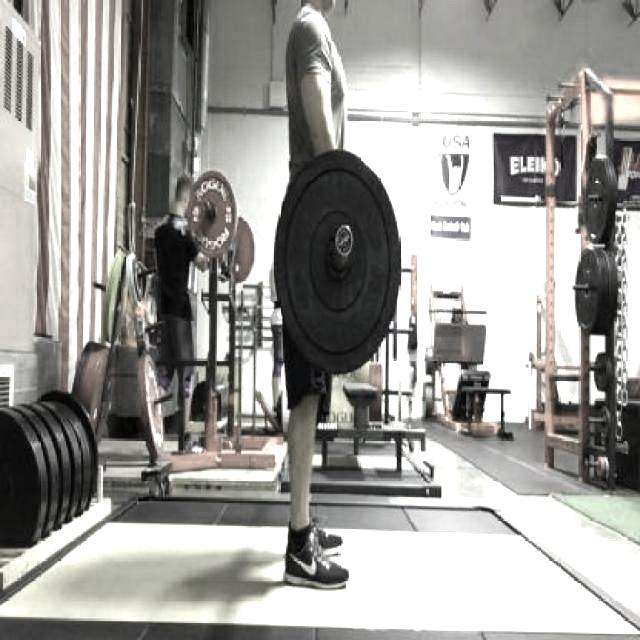barbell: (272, 145, 404, 377)
